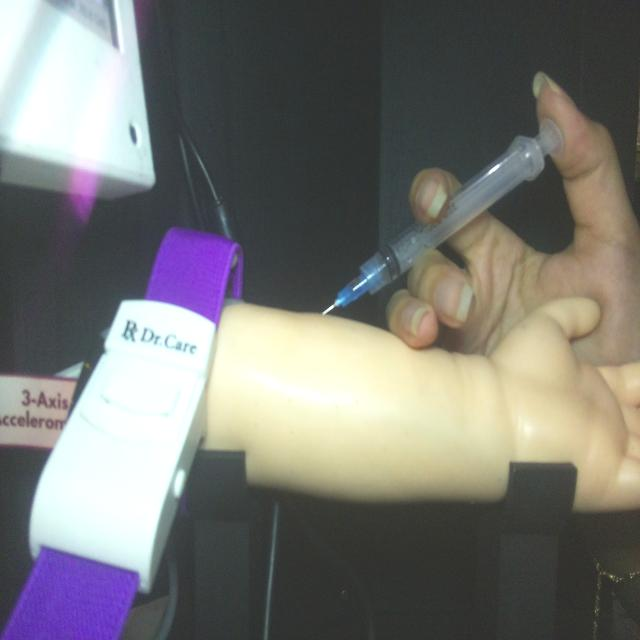26 degrees: (319, 112, 565, 318)
